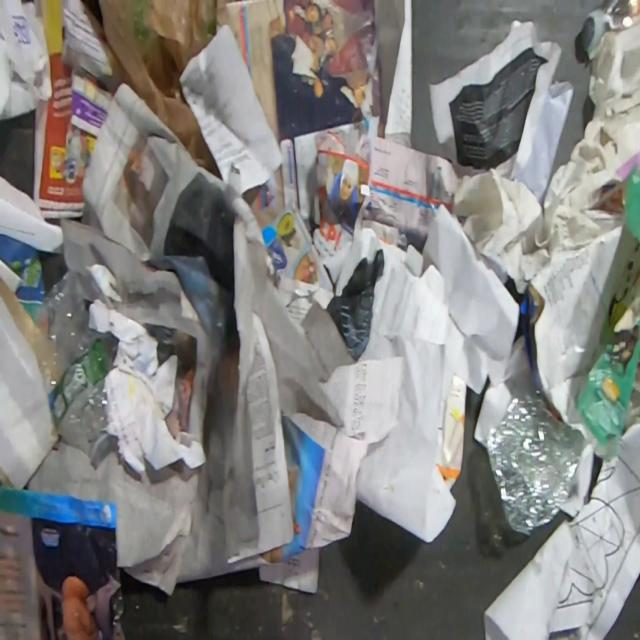cardboard: (434, 374, 466, 492)
rigid_plastic: (482, 385, 587, 534), (37, 269, 113, 472), (582, 0, 639, 54)
soft_plastic: (97, 0, 227, 183)
